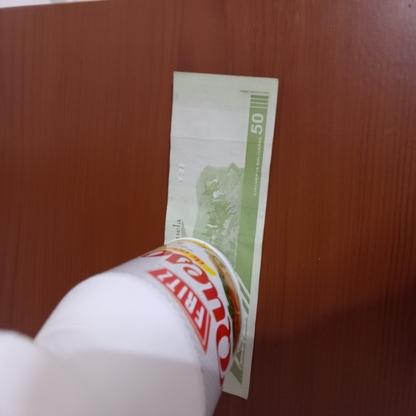vef_back: (162, 70, 279, 400)
